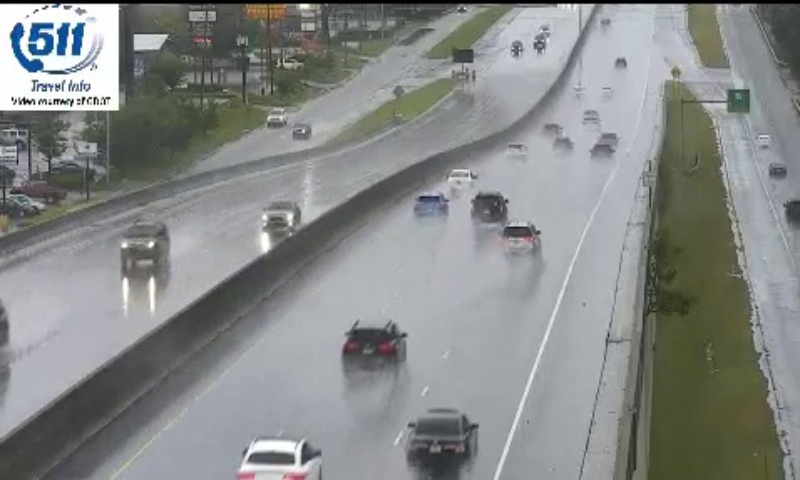car: (405, 409, 476, 468), (237, 436, 323, 480), (343, 320, 406, 377), (498, 222, 540, 259), (470, 190, 507, 222), (411, 192, 448, 220), (446, 167, 473, 192)
